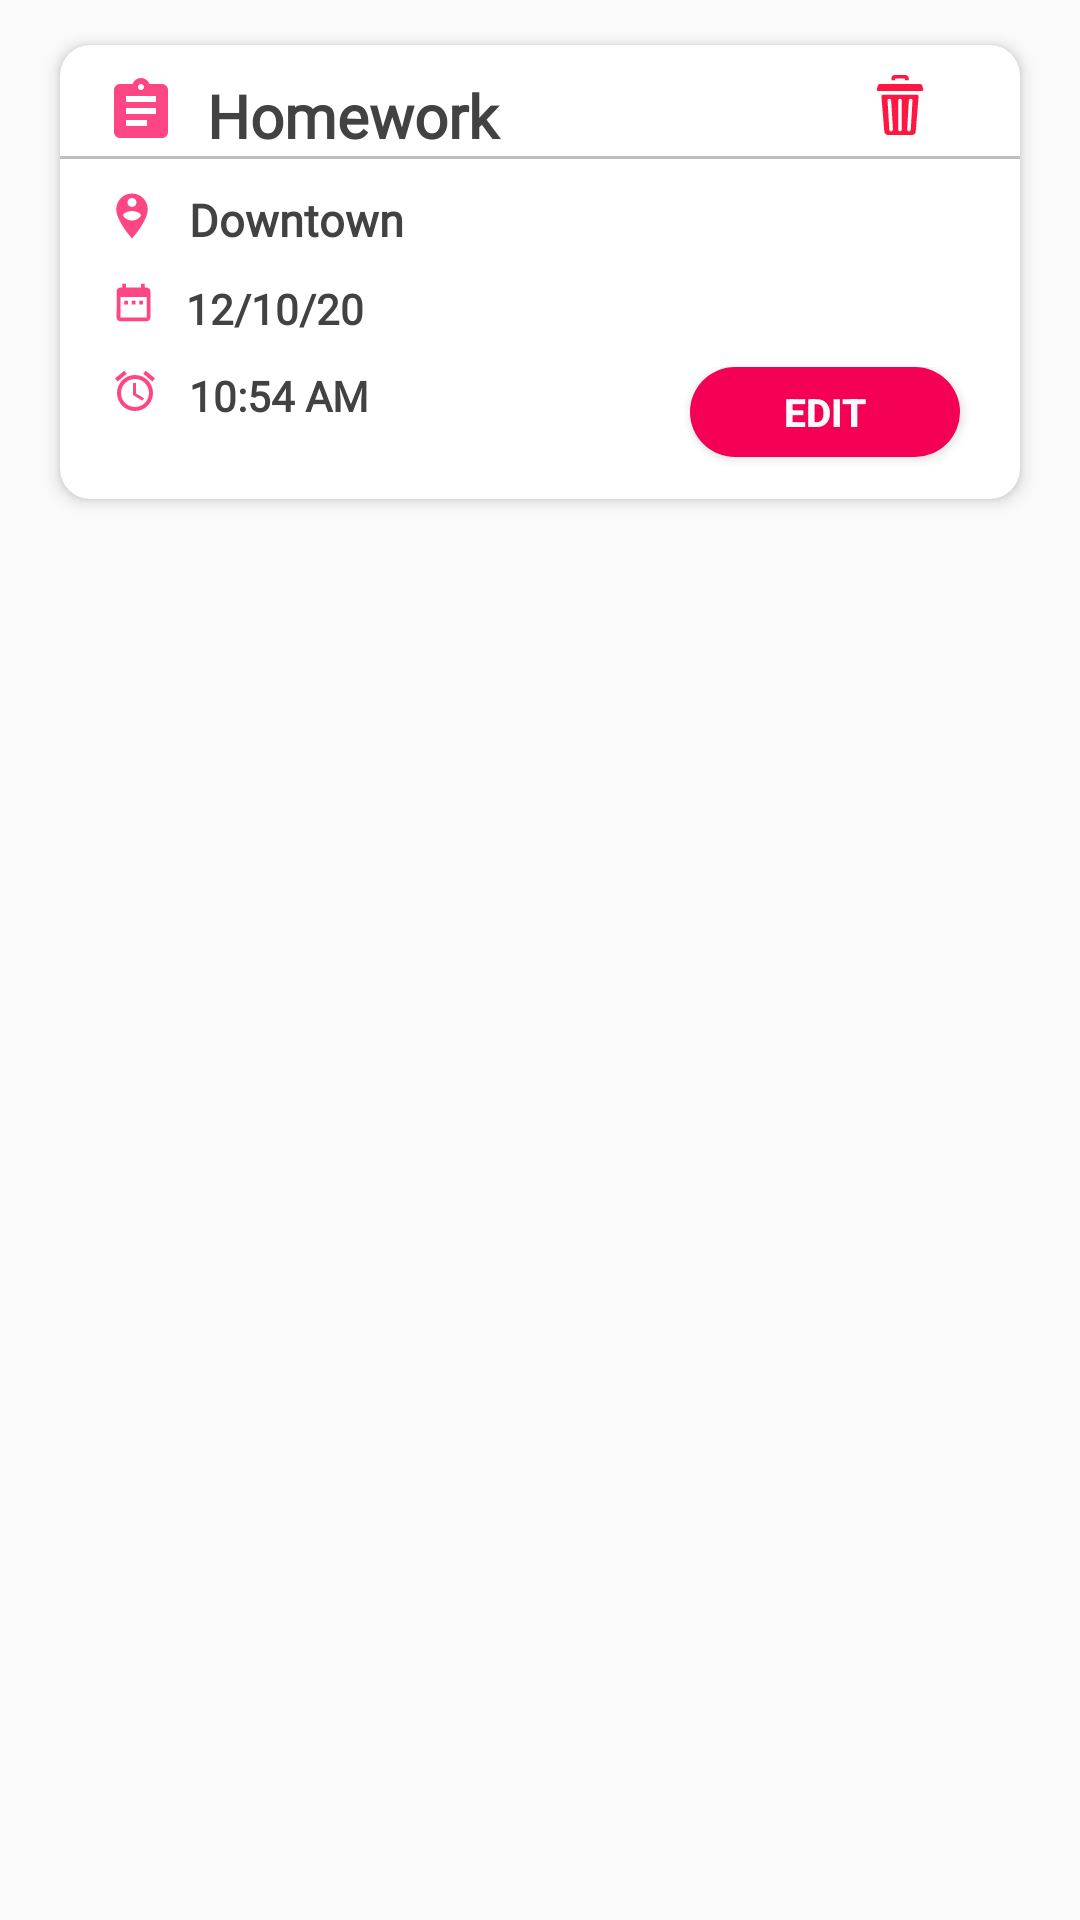

Icons on this 1080w x 1920h Android screen, each with its box as (x1, y1, x2, y2):
assignment: (114, 78, 168, 138)
date range: (116, 283, 151, 322)
delete: (876, 75, 924, 135)
place: (116, 193, 148, 238)
time: (115, 371, 155, 411)
